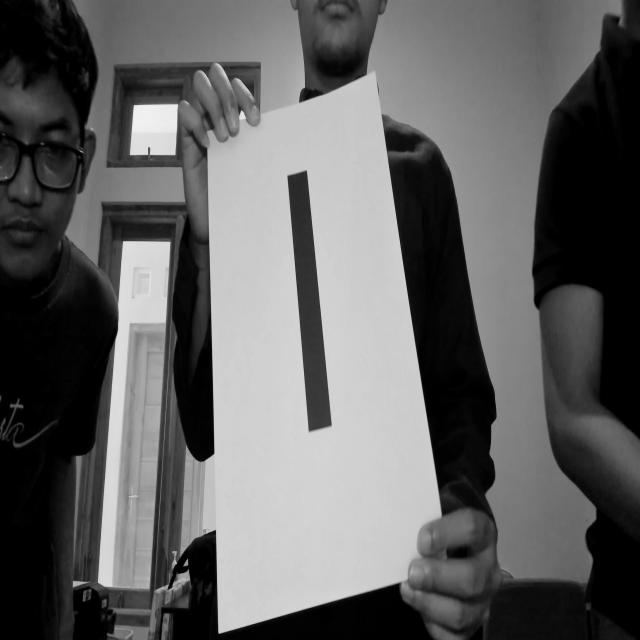i: (270, 156, 361, 442)
